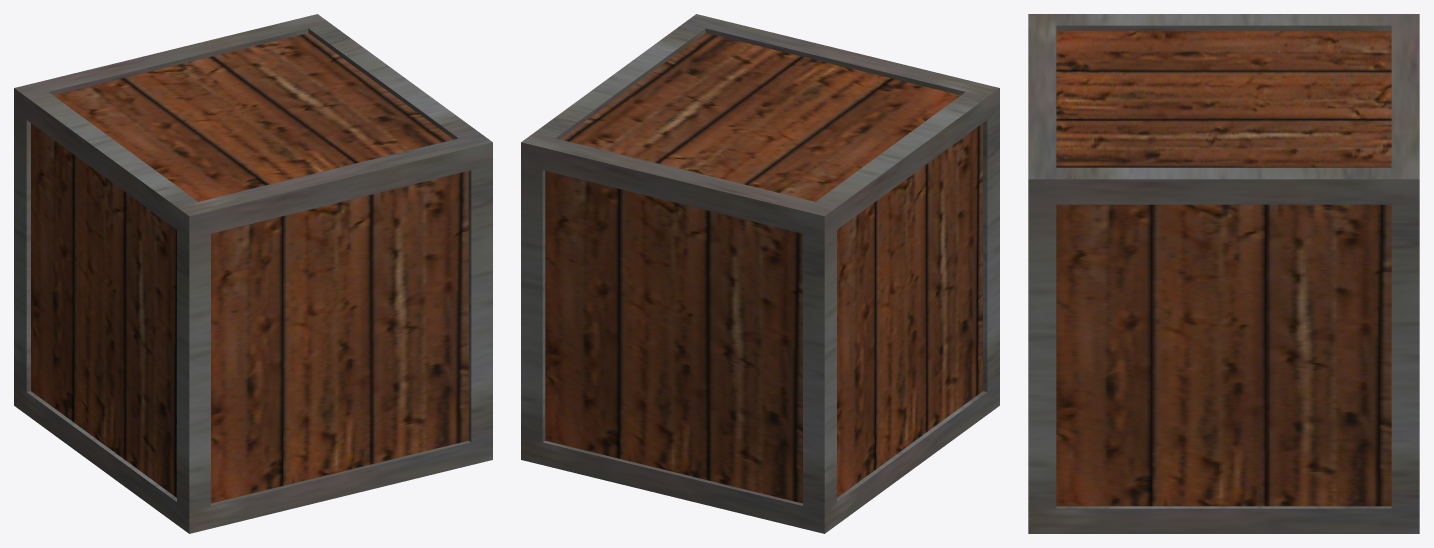
Rendered from Crate.FBX.
3 renders of one model, left to right at view 1: azimuth 30°, elevation 25°; view 2: azimuth 150°, elevation 25°; view 3: azimuth 270°, elevation 25°, orthographic. The views are drawn at different scales.
Visible parts, largest first — view 1: crate; view 2: crate; view 3: crate.
Boxes of the visible parts, left/top/right/bottom form: crate: left=14, top=14, right=492, bottom=533; crate: left=521, top=14, right=999, bottom=533; crate: left=1028, top=14, right=1419, bottom=533.
Size of the model in its own units: 182 by 182 by 182.
2 materials, 2 textured.
